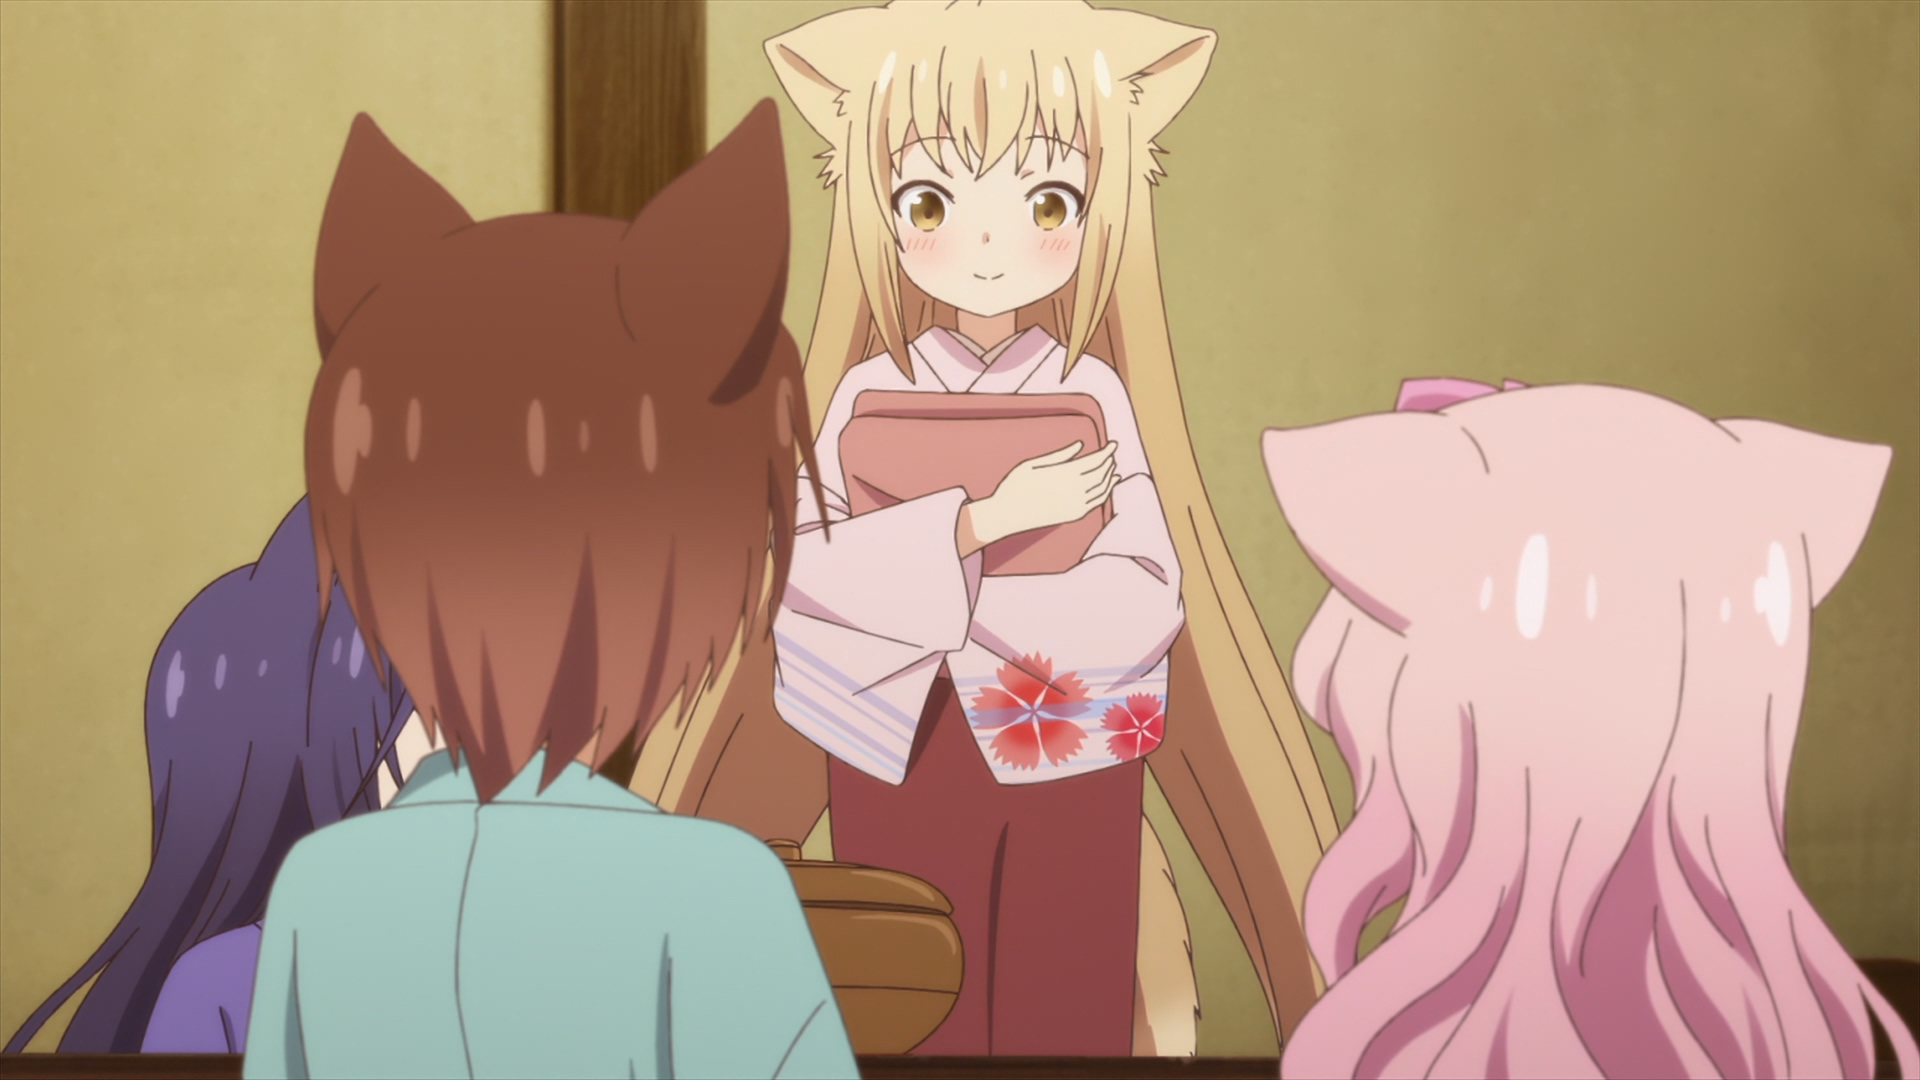枣: (241, 99, 858, 1080)
柚: (629, 1, 1340, 1080)
皋: (1, 495, 446, 1050)
莲: (1261, 376, 1920, 1080)
